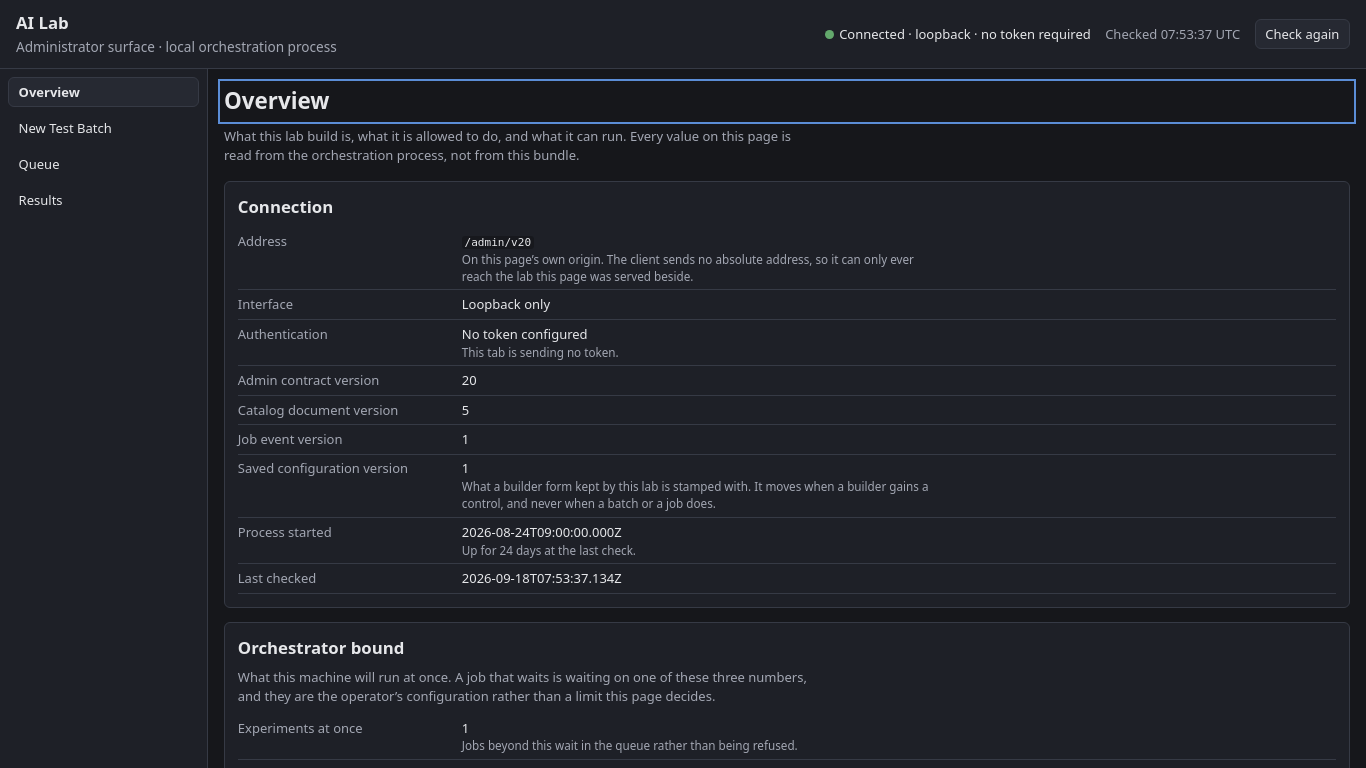
it: the overview view › never claims "no games" for a pair sitting past a truncated matchups page
Expected: the heading "Overview" is shown, [224,85,330,116]
What coordinates should you click on to do the following:
click the button "Results"
I would click on:
 (104, 200)
Its box is [8,185,199,216].
(page scrolled)
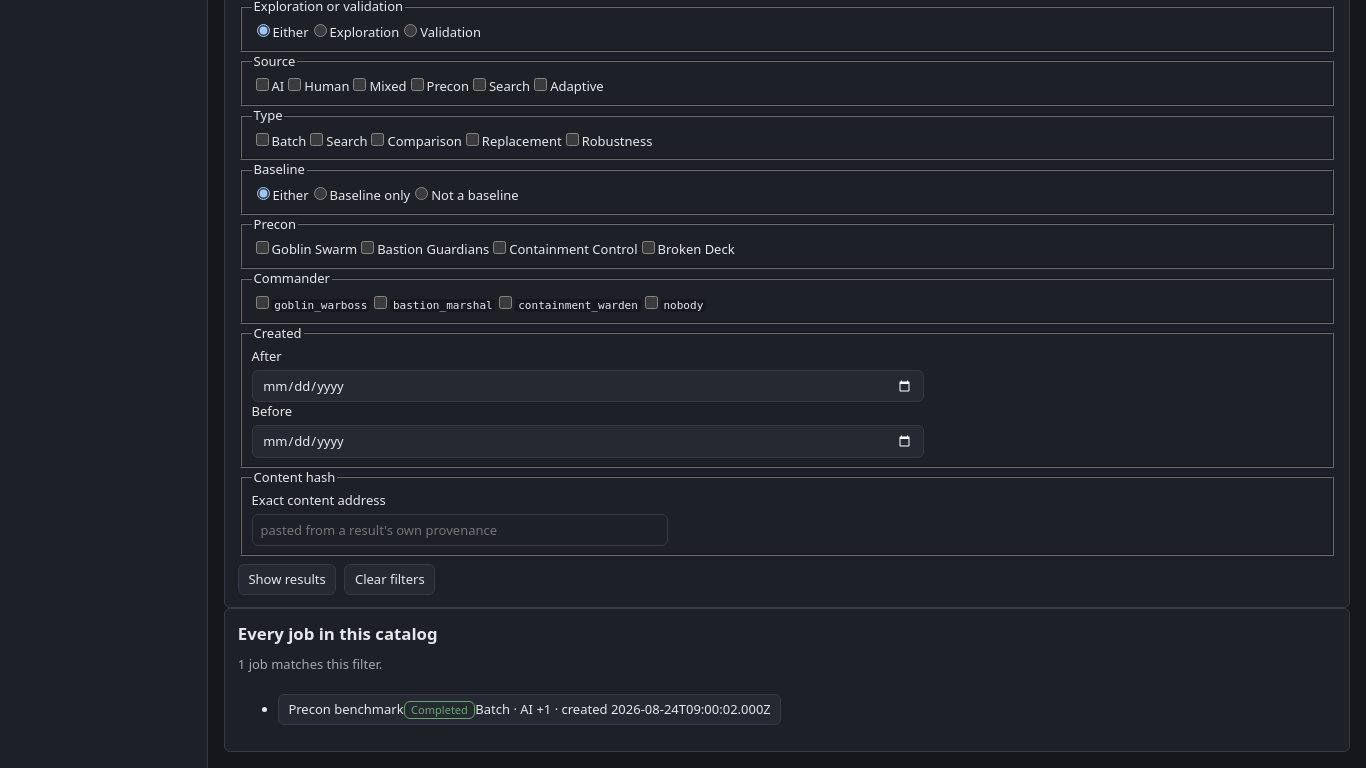
What coordinates should you click on to do the following:
click the button "Precon benchmark"
I would click on:
 (530, 710)
Its box is [278,694,781,725].
(page scrolled)
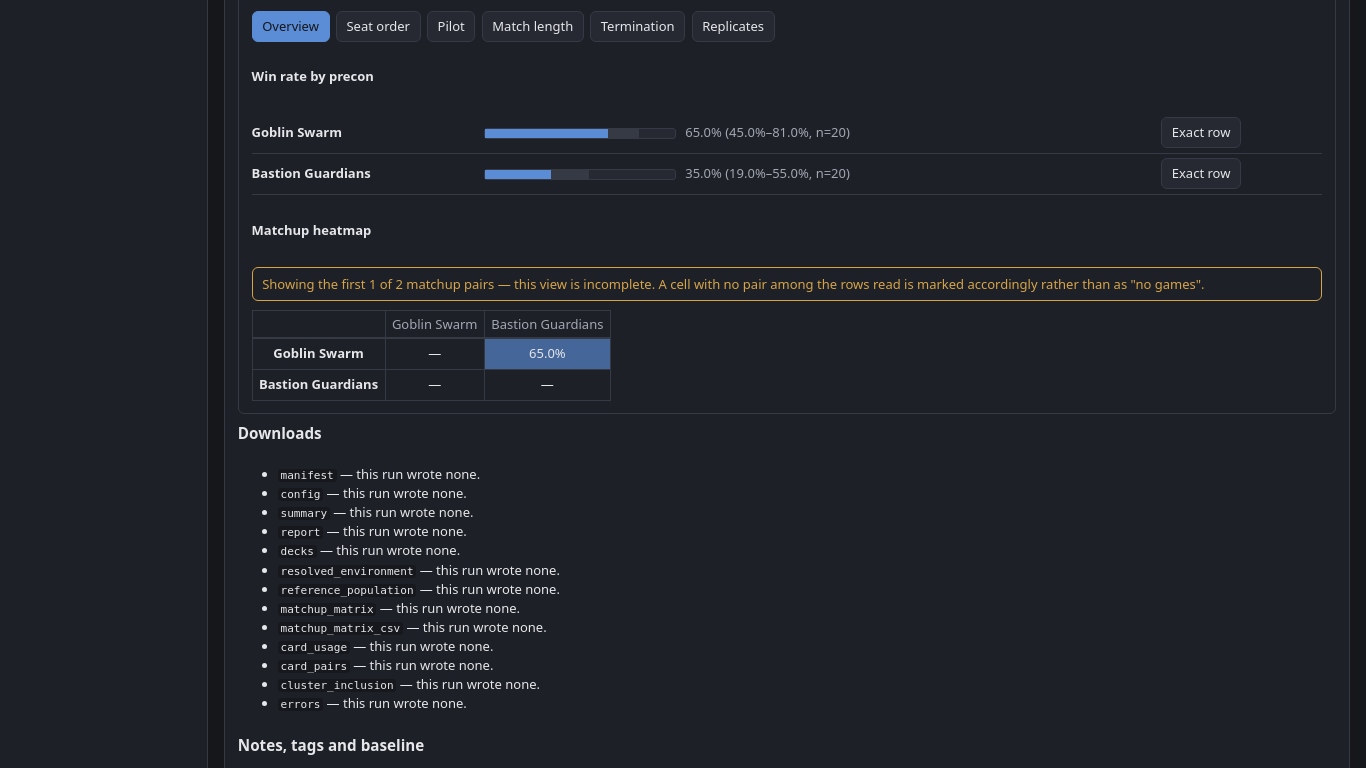
Expected: the text "this view is incomplete" is shown, [262,274,655,292]
Expected: the 2nd button "—" is shown
What coordinates should you click on to do the following:
click the 2nd button "—"
I would click on:
 (435, 385)
Its box is [423,373,446,396].
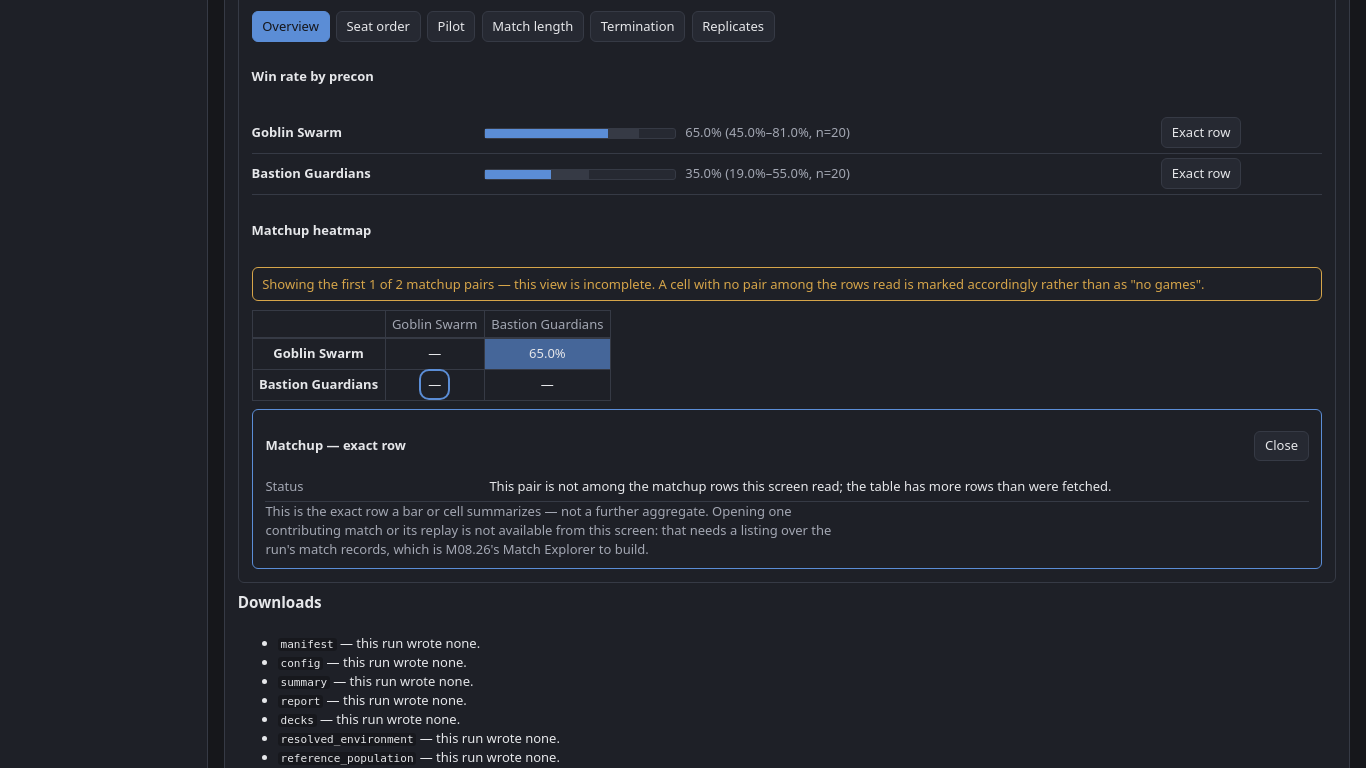
Expected: the text "not among the matchup rows this screen read" is shown, [489,477,1112,495]
